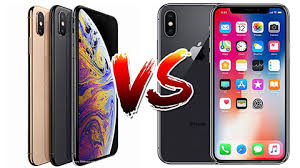iphone: (211, 3, 291, 165), (70, 2, 120, 166)
iphone10: (211, 3, 291, 165), (70, 1, 120, 165)
